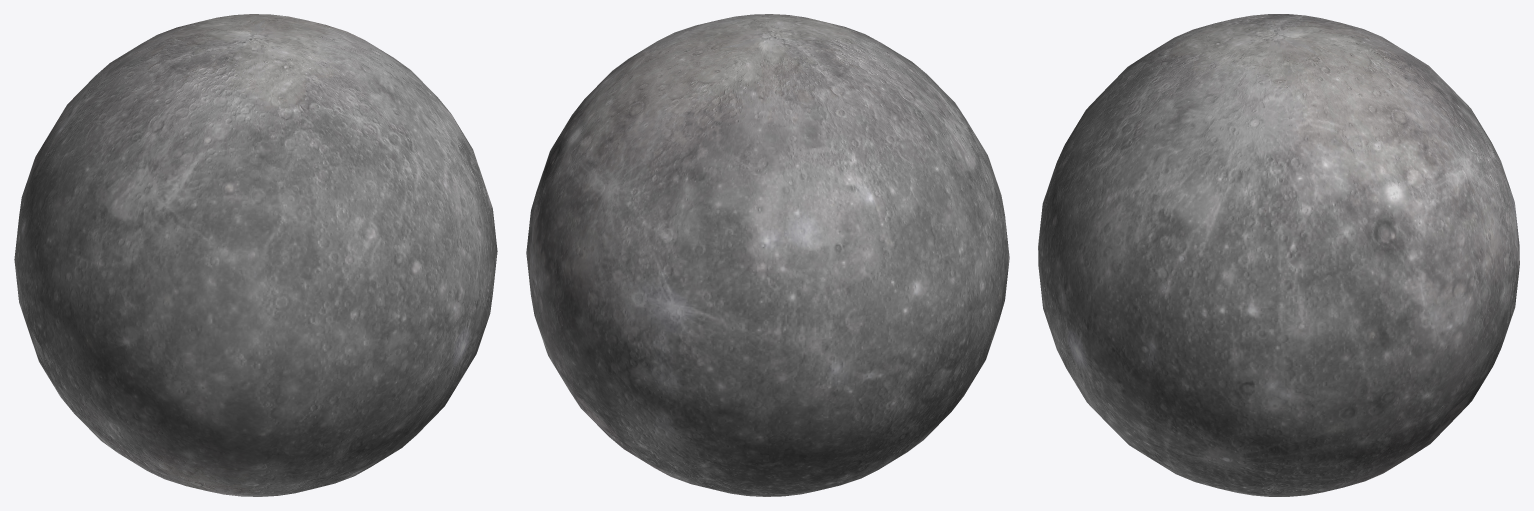
Rendered from Merkur.glb.
3 renders of one model, left to right at view 1: azimuth 30°, elevation 25°; view 2: azimuth 150°, elevation 25°; view 3: azimuth 270°, elevation 25°, orthographic.
Parts seen in each view (by area): view 1: Mercury; view 2: Mercury; view 3: Mercury.
Part boxes in pixels (x1=…): Mercury: x1=14, y1=14, x2=497, y2=496; Mercury: x1=526, y1=14, x2=1009, y2=496; Mercury: x1=1038, y1=14, x2=1519, y2=496.
Size of the model in its own units: 0.3486 by 0.35 by 0.3486.
1 material, 1 textured.
